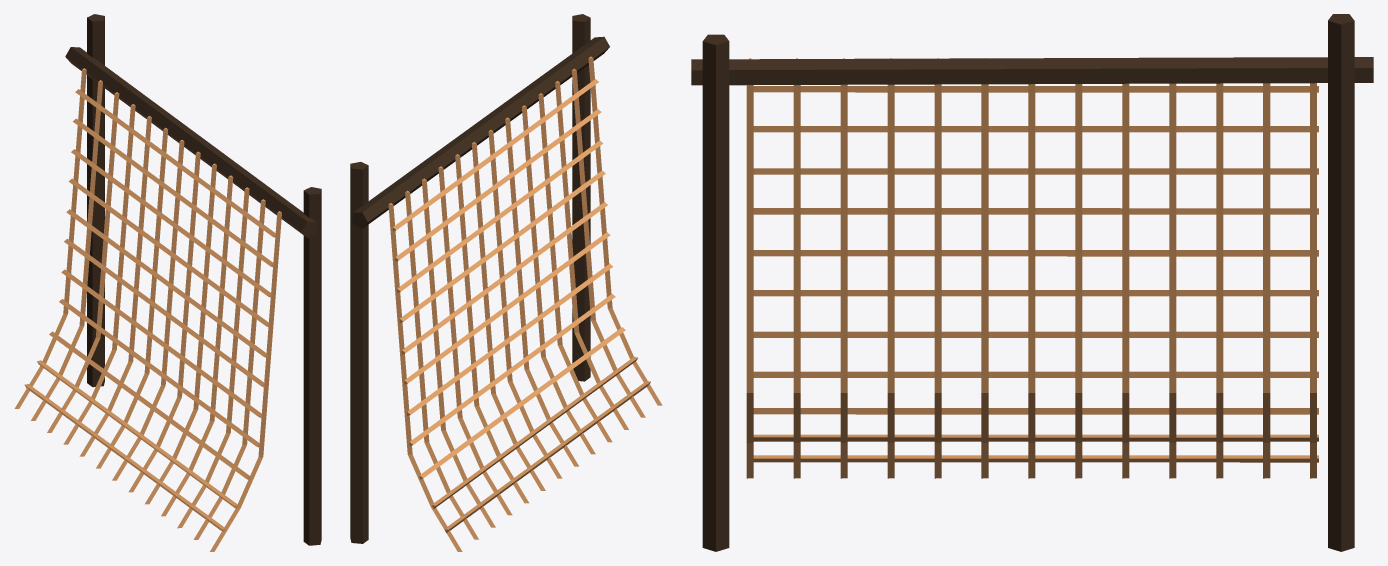
The model's file is fishnet_mat.fbx.
3 renders of one model, left to right at view 1: azimuth 30°, elevation 25°; view 2: azimuth 150°, elevation 25°; view 3: azimuth 270°, elevation 25°, orthographic. The views are drawn at different scales.
Visible parts, largest first — view 1: fishnet_mat; view 2: fishnet_mat; view 3: fishnet_mat.
Boxes of the visible parts, bbox=[...] form: fishnet_mat: bbox=[14, 14, 321, 551]; fishnet_mat: bbox=[350, 14, 662, 551]; fishnet_mat: bbox=[691, 14, 1373, 551].
Size of the model in its own units: 33.83 by 118 by 138.
